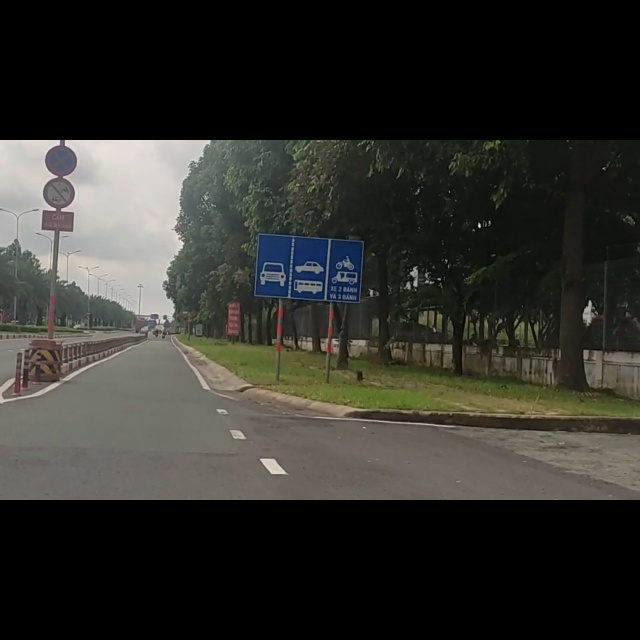bien_chi_dan: (254, 164, 365, 292), (41, 9, 78, 63), (42, 63, 75, 122)
